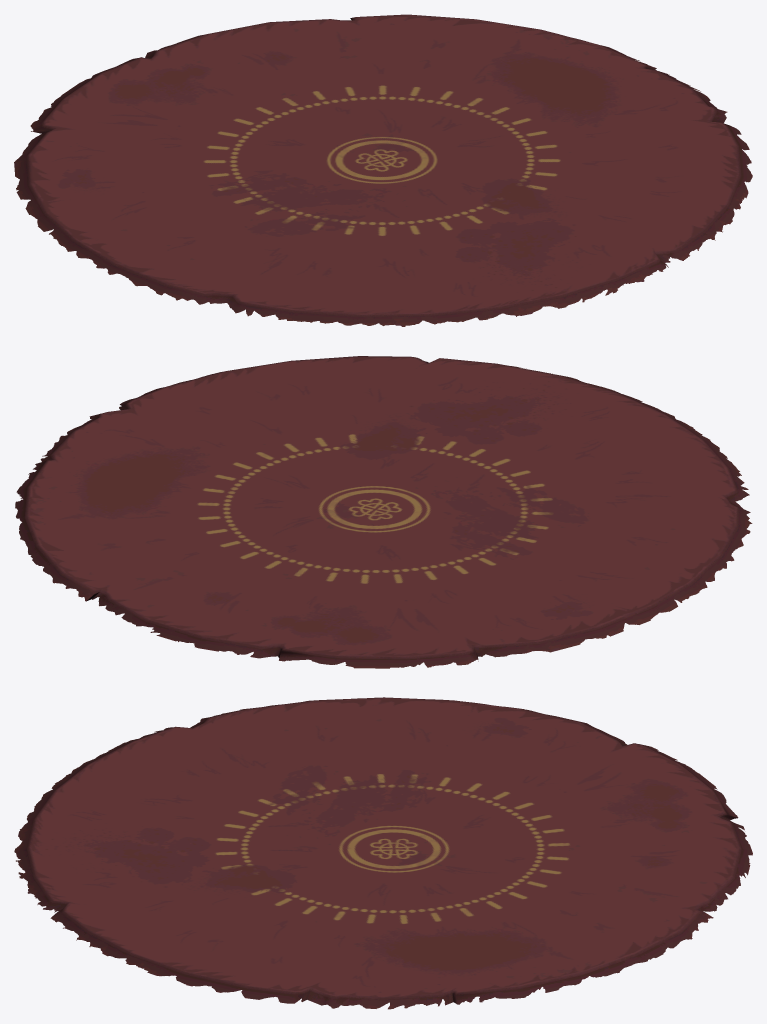
The model's file is SM_Wheelhouse_Carpet.gltf.
3 views of the same model, one above another, from view 1: azimuth 30°, elevation 25°; view 2: azimuth 150°, elevation 25°; view 3: azimuth 270°, elevation 25° (orthographic).
Parts seen in each view (by area): view 1: SM_Wheelhouse_Carpet; view 2: SM_Wheelhouse_Carpet; view 3: SM_Wheelhouse_Carpet.
Part boxes in pixels (box(x1,y1,x2,y2)): SM_Wheelhouse_Carpet: box(14, 14, 752, 326); SM_Wheelhouse_Carpet: box(15, 356, 752, 668); SM_Wheelhouse_Carpet: box(14, 697, 752, 1009).
Size of the model in its own units: 2.57 by 0.0238 by 2.57.
Materials: 1 (1 with a texture image).
